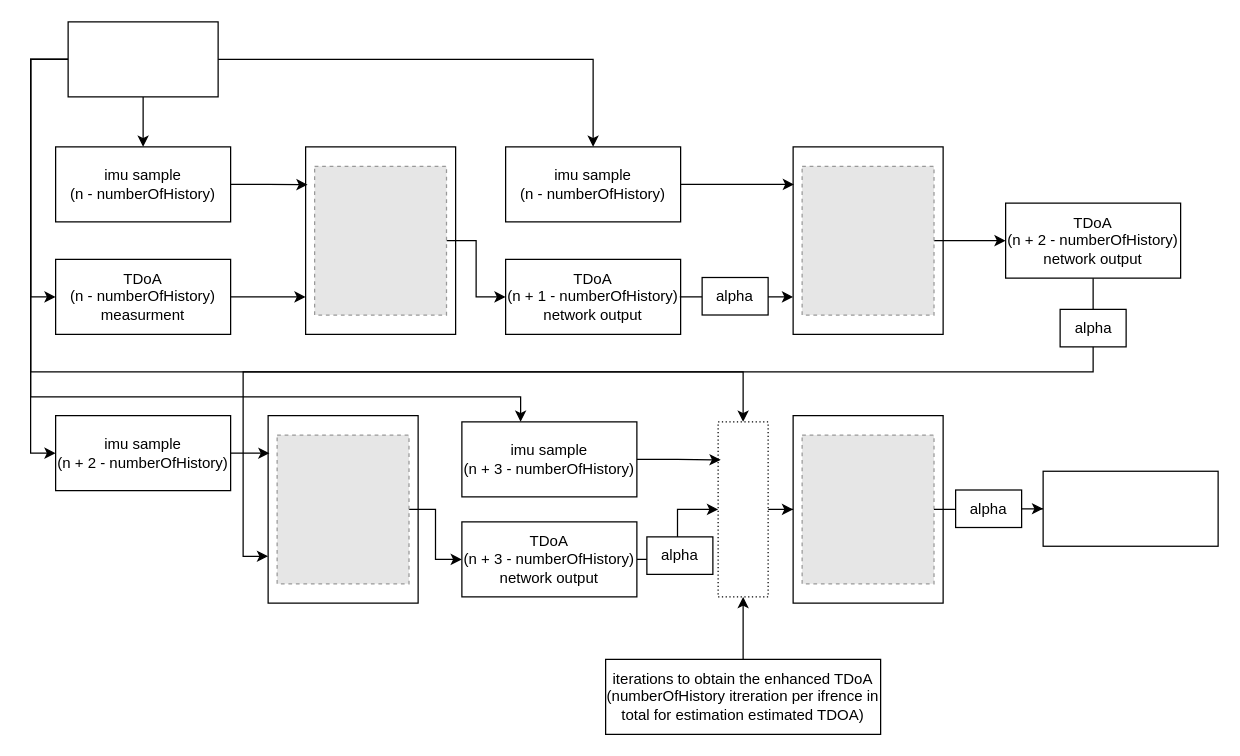
The diagram is 1240 pixels wide and 756 high, and some of its shapes have lost their labels. Grey dashed boxes stand in for pictures. Here are the shapes that lost their labels. From the top down, the centre of each, then its label:
At [142,59]: "measurment data".
At [1130,508]: "TDoA (n) network output".
